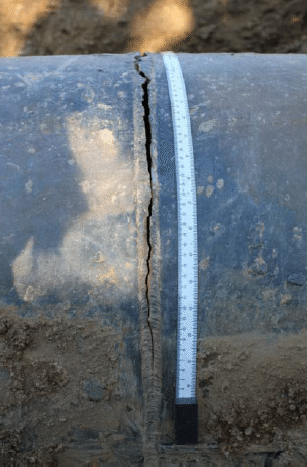crack: (132, 53, 163, 373)
